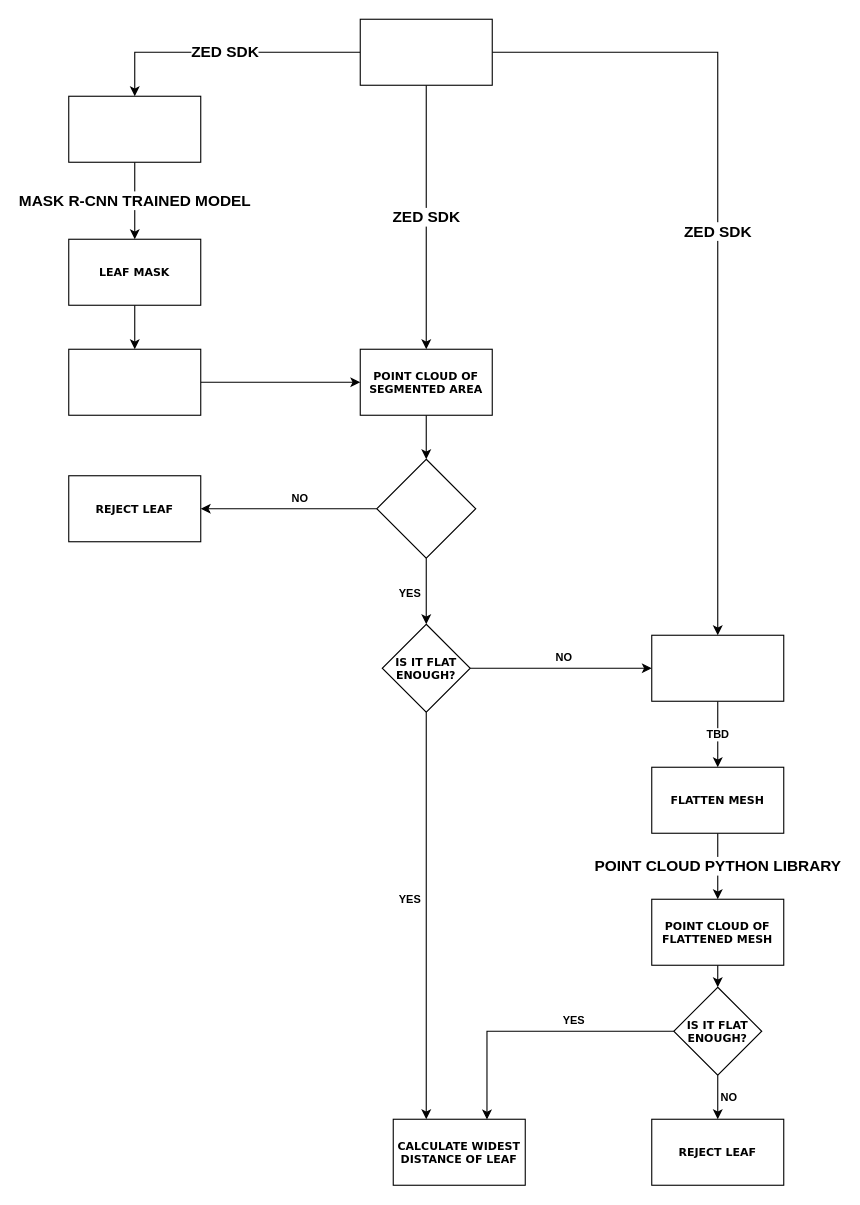
Some shapes in this 860 by 1205 pixel diagram are drawn without their labels. The centre of each missing label's shape, as x and y in pixels:
"2D IMAGE" goes at [134,128].
"IS IT ONE LEAF?" goes at [426,508].
"MATRIX OF COORDINATES OF LEAF MASK IN PLANT IMAGE" goes at [134,381].
"MESH OF SEGMENTED AREA" goes at [717,667].
"ZED CAMERA SVO RECORDING" goes at [425,51].
